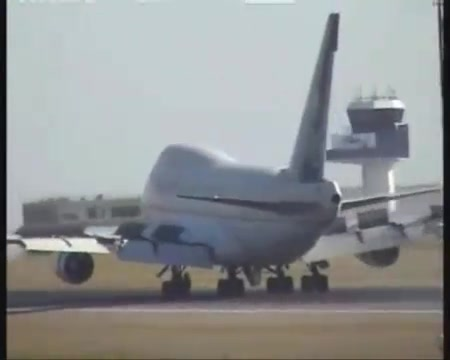aeroplane: (9, 12, 445, 301)
